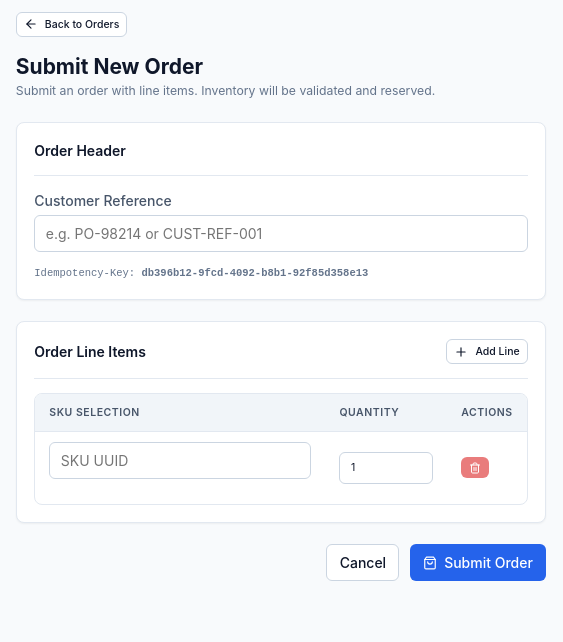
CreateOrderPage › validates SKU is required on all order lines
Click the button "Submit Order": [478, 563] box 410,544 -> 546,581
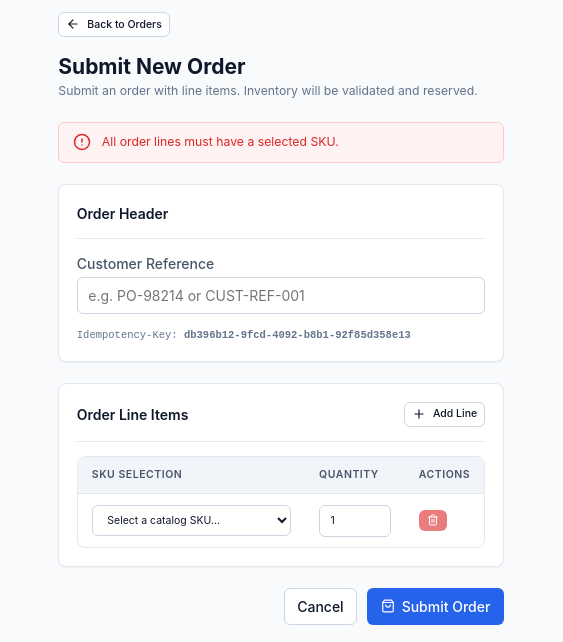
Check: the text "All order lines must have a selected SKU." is shown, box 102,133 -> 339,152
